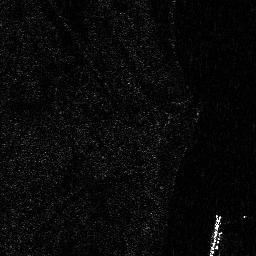ship: (208, 213, 224, 256)
